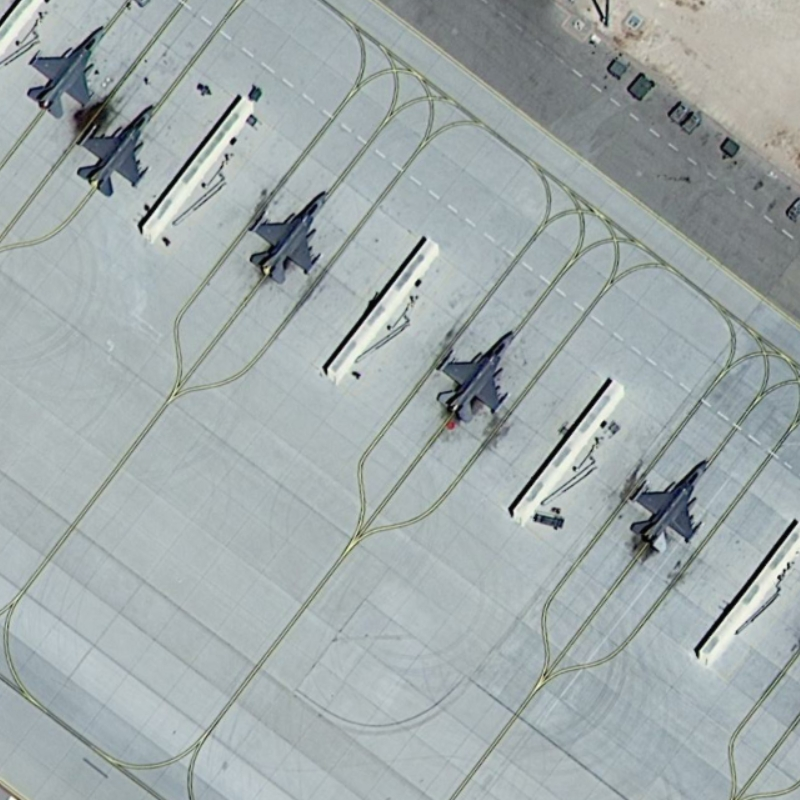A5: (621, 450, 715, 555), (73, 101, 165, 207), (427, 325, 519, 431), (242, 186, 335, 286), (22, 19, 110, 122)
